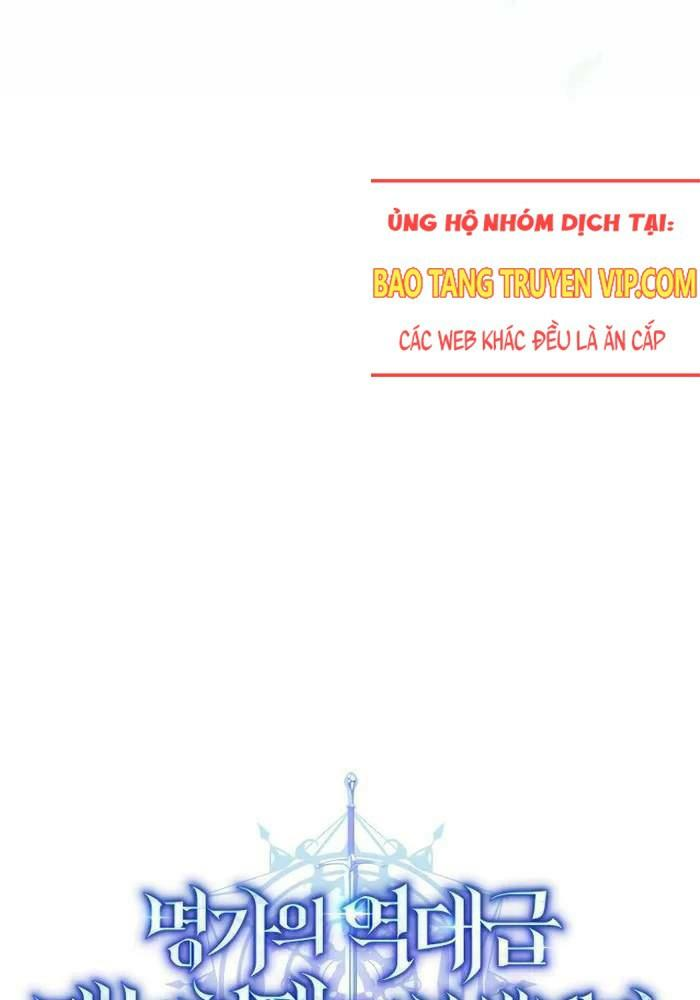quangcao: (364, 177, 700, 384)
